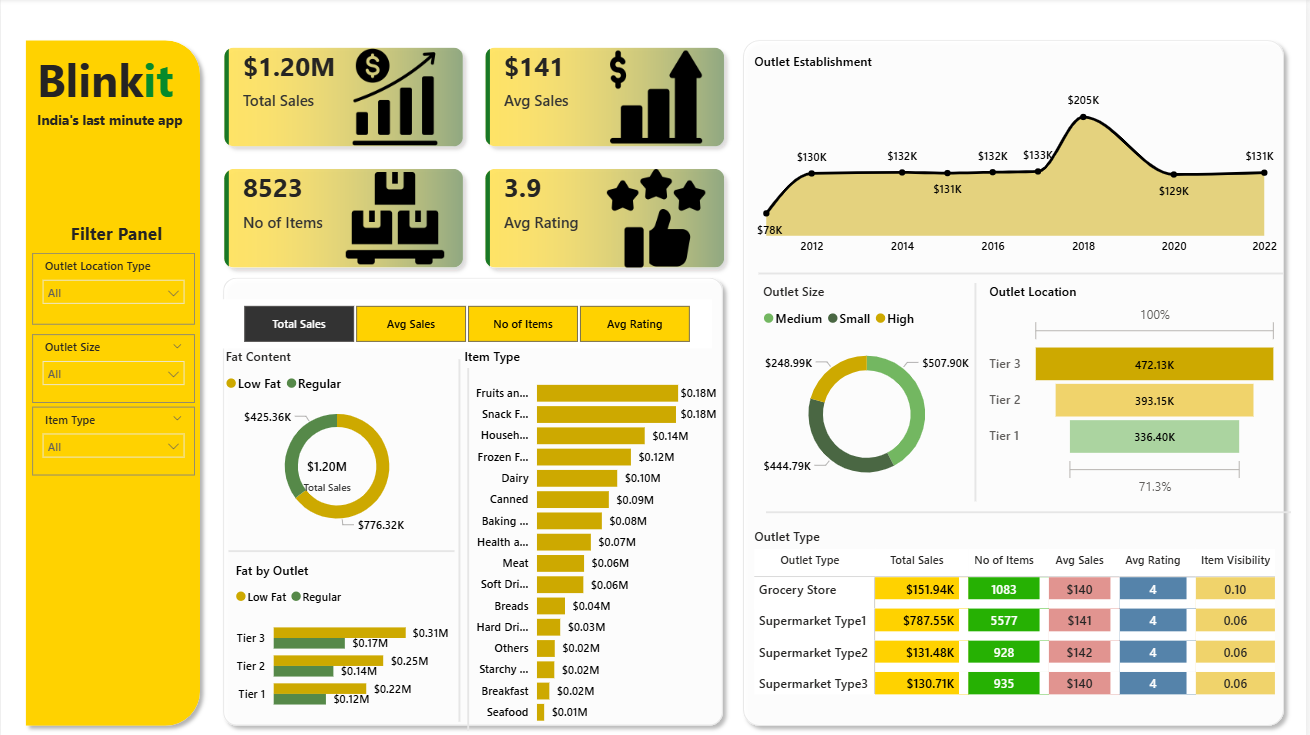

Layout of this report page (visuals, bound fields, positions):
{"tool":"powerbi","page":{"name":"Page 1","canvas":[1400,800],"ordinal":0},"visuals":[{"type":"shape","box":[17.4,36.2,205.1,753.4],"z":0},{"type":"textbox","box":[33,49.5,174.1,78],"z":1000},{"type":"textbox","box":[33,115.6,174.1,39],"z":2000},{"type":"cardVisual","fields":{"Data":["BlinkIT Grocery Data.Total Sales","BlinkIT Grocery Data.Avg Sales","BlinkIT Grocery Data.No of Items","BlinkIT Grocery Data.Avg Rating"]},"box":[222.1,36,570.3,270.2],"z":3000},{"type":"shape","box":[229.6,291.2,553.8,498.3],"z":4000},{"type":"donutChart","title":"Fat Content","fields":{"Y":["BlinkIT Grocery Data.Total Sales"],"Category":["BlinkIT Grocery Data.Item Fat Content"]},"box":[235.9,375.3,249.3,206.4],"z":5000},{"type":"slicer","fields":{"Values":["Metrics.Metrics"]},"box":[234.1,322.7,528.3,52.5],"z":6000},{"type":"cardVisual","fields":{"Data":["BlinkIT Grocery Data.Total Sales"]},"box":[288.2,472.8,123.1,78],"z":7000},{"type":"clusteredBarChart","title":"Fat by Outlet ","fields":{"Y":["BlinkIT Grocery Data.Total Sales"],"Category":["BlinkIT Grocery Data.Outlet Location Type"],"Series":["BlinkIT Grocery Data.Item Fat Content"]},"box":[246.7,604.6,238.6,171.6],"z":8000},{"type":"shape","box":[244,581.8,242.6,22.8],"z":9000},{"type":"shape","box":[475.8,387.2,31.5,388.7],"z":10000},{"type":"barChart","title":"Item Type","fields":{"Y":["BlinkIT Grocery Data.Total Sales"],"Category":["BlinkIT Grocery Data.Item Type"]},"box":[492.3,375.2,280.7,414.2],"z":11000},{"type":"shape","box":[786.9,36.2,597.9,753.4],"z":12000},{"type":"lineChart","title":"Outlet Establishment","fields":{"Category":["BlinkIT Grocery Data.Outlet Establishment Year"],"Y":["BlinkIT Grocery Data.Total Sales"]},"box":[803,59,571,225.2],"z":13000},{"type":"shape","box":[812,283.7,562.8,22.5],"z":14000},{"type":"donutChart","title":"Outlet Size","fields":{"Y":["BlinkIT Grocery Data.Total Sales"],"Category":["BlinkIT Grocery Data.Outlet Size"]},"box":[812,306.2,232.6,234.1],"z":15000},{"type":"funnel","title":"Outlet Location","fields":{"Y":["Sum(BlinkIT Grocery Data.Sales)"],"Category":["BlinkIT Grocery Data.Outlet Location Type"]},"box":[1055.1,306.2,319.7,234.1],"z":16000},{"type":"shape","box":[485.8,397.2,31.5,388.7],"z":17000},{"type":"shape","box":[1025.1,306.2,39,234.1],"z":18000},{"type":"shape","box":[821,540.3,562.8,22.5],"z":19000},{"type":"pivotTable","title":"Outlet Type","fields":{"Rows":["BlinkIT Grocery Data.Outlet Type"],"Values":["BlinkIT Grocery Data.Total Sales","BlinkIT Grocery Data.No of Items","BlinkIT Grocery Data.Avg Sales","BlinkIT Grocery Data.Avg Rating","Avg(BlinkIT Grocery Data.Item Visibility)"]},"box":[803,568.4,572.4,207.8],"z":20000},{"type":"slicer","fields":{"Values":["BlinkIT Grocery Data.Outlet Location Type"]},"box":[33,273.2,174.1,76.5],"z":21000},{"type":"slicer","fields":{"Values":["BlinkIT Grocery Data.Outlet Size"]},"box":[33,360.2,174.1,73.5],"z":22000},{"type":"slicer","fields":{"Values":["BlinkIT Grocery Data.Item Type"]},"box":[33,438.3,174.1,73.5],"z":23000},{"type":"textbox","box":[33.5,234.6,174.3,38.9],"z":23001}]}

Visuals, with their boxes in screenshot pixels (x1, y1, x2, y2), scaled from the page's 1400x800 canvas onto the 1310x735 screenshot:
shape: {"x1": 16, "y1": 33, "x2": 208, "y2": 725}
textbox: {"x1": 31, "y1": 45, "x2": 194, "y2": 117}
textbox: {"x1": 31, "y1": 106, "x2": 194, "y2": 142}
cardVisual - BlinkIT Grocery Data.Total Sales x BlinkIT Grocery Data.Avg Sales: {"x1": 208, "y1": 33, "x2": 741, "y2": 281}
shape: {"x1": 215, "y1": 268, "x2": 733, "y2": 725}
"Fat Content" donutChart: {"x1": 221, "y1": 345, "x2": 454, "y2": 534}
slicer - Metrics.Metrics: {"x1": 219, "y1": 296, "x2": 713, "y2": 345}
cardVisual - BlinkIT Grocery Data.Total Sales: {"x1": 270, "y1": 434, "x2": 385, "y2": 506}
"Fat by Outlet " clusteredBarChart: {"x1": 231, "y1": 555, "x2": 454, "y2": 713}
shape: {"x1": 228, "y1": 535, "x2": 455, "y2": 555}
shape: {"x1": 445, "y1": 356, "x2": 475, "y2": 713}
"Item Type" barChart: {"x1": 461, "y1": 345, "x2": 723, "y2": 725}
shape: {"x1": 736, "y1": 33, "x2": 1296, "y2": 725}
"Outlet Establishment" lineChart: {"x1": 751, "y1": 54, "x2": 1286, "y2": 261}
shape: {"x1": 760, "y1": 261, "x2": 1286, "y2": 281}
"Outlet Size" donutChart: {"x1": 760, "y1": 281, "x2": 977, "y2": 496}
"Outlet Location" funnel: {"x1": 987, "y1": 281, "x2": 1286, "y2": 496}
shape: {"x1": 455, "y1": 365, "x2": 484, "y2": 722}
shape: {"x1": 959, "y1": 281, "x2": 996, "y2": 496}
shape: {"x1": 768, "y1": 496, "x2": 1295, "y2": 517}
"Outlet Type" pivotTable: {"x1": 751, "y1": 522, "x2": 1287, "y2": 713}
slicer - BlinkIT Grocery Data.Outlet Location Type: {"x1": 31, "y1": 251, "x2": 194, "y2": 321}
slicer - BlinkIT Grocery Data.Outlet Size: {"x1": 31, "y1": 331, "x2": 194, "y2": 398}
slicer - BlinkIT Grocery Data.Item Type: {"x1": 31, "y1": 403, "x2": 194, "y2": 470}
textbox: {"x1": 31, "y1": 216, "x2": 194, "y2": 251}
